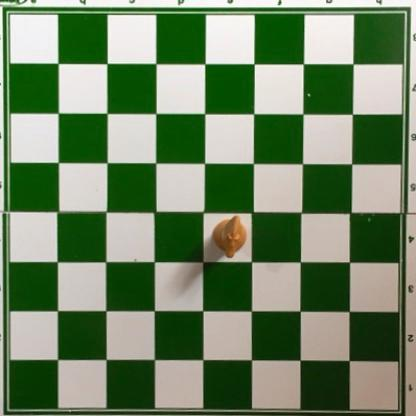white-knight: (211, 214, 248, 259)
